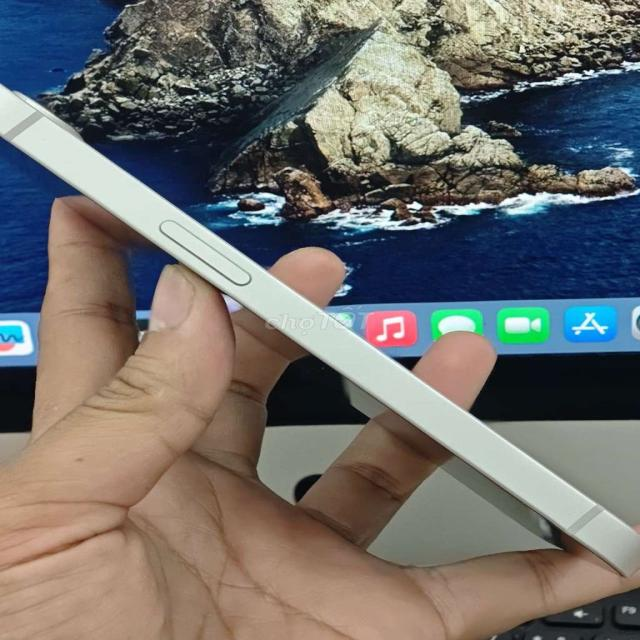gen_16: (0, 84, 639, 575)
